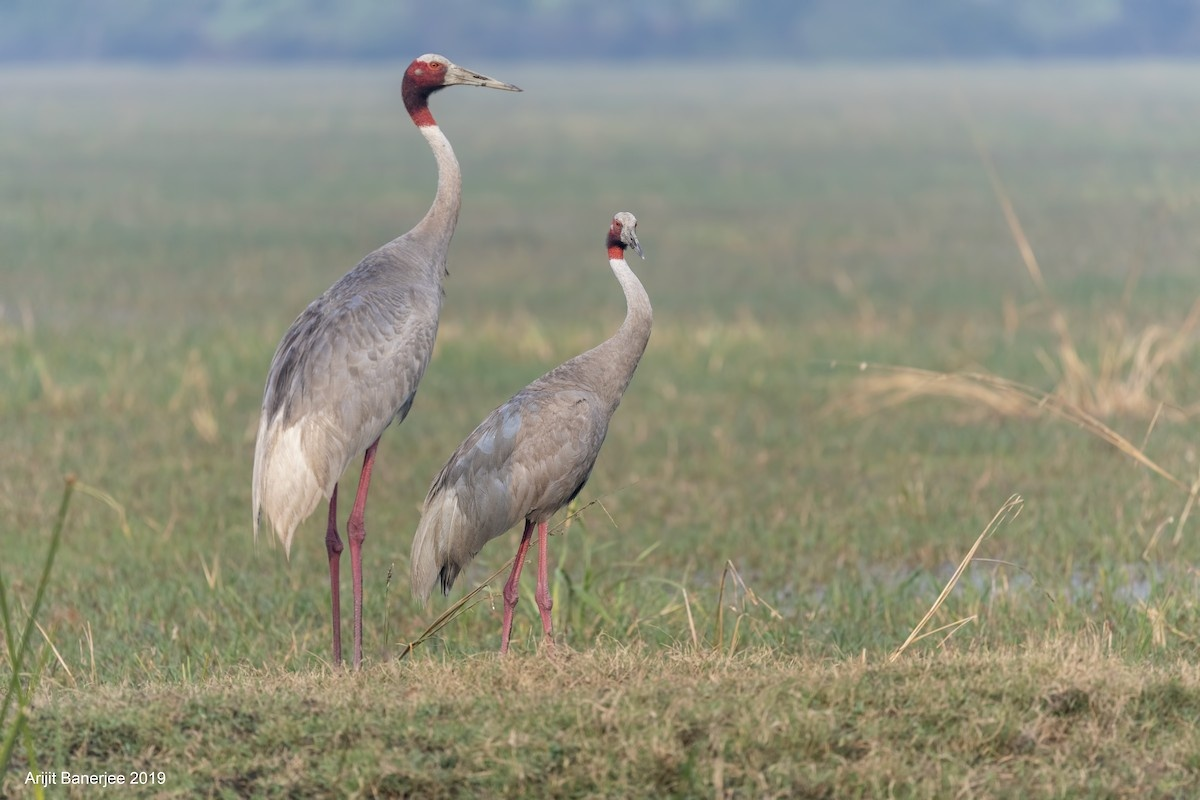crane: (256, 42, 534, 650), (417, 194, 666, 636)
